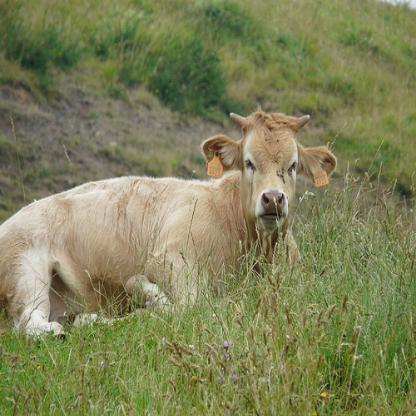cow: (0, 108, 336, 340)
